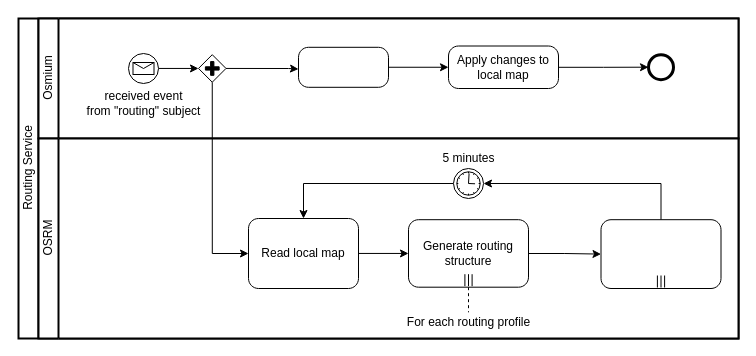
The diagram is 756 pixels wide and 356 high, and some of its shapes have lost their labels. The centre of each missing label's shape, as x and y in pixels:
Save to disk: point 343,66
Start routing server: point 660,253
